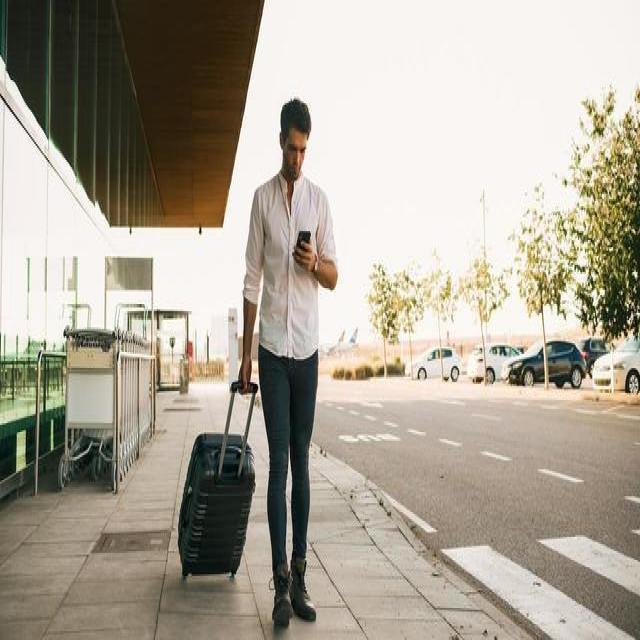luggage: (177, 428, 256, 581)
